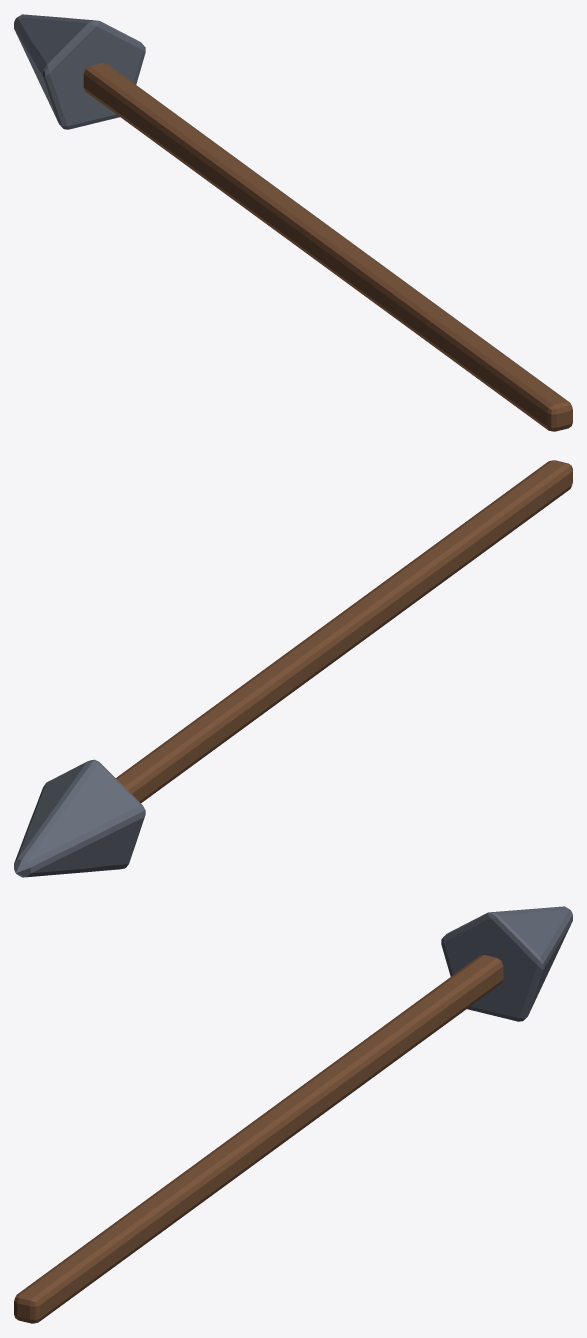
File: bolt.glb
3 renders of one model, top to bottom at view 1: azimuth 30°, elevation 25°; view 2: azimuth 150°, elevation 25°; view 3: azimuth 330°, elevation 25°, orthographic.
Parts seen in each view (by area): view 1: _MeshInstance3D_550, _MeshInstance3D_551; view 2: _MeshInstance3D_550, _MeshInstance3D_551; view 3: _MeshInstance3D_550, _MeshInstance3D_551.
Boxes of the visible parts, bbox=[...] form: _MeshInstance3D_550: bbox=[83, 63, 572, 431]; _MeshInstance3D_551: bbox=[14, 14, 145, 129]; _MeshInstance3D_550: bbox=[116, 460, 572, 802]; _MeshInstance3D_551: bbox=[14, 759, 145, 877]; _MeshInstance3D_550: bbox=[14, 955, 503, 1323]; _MeshInstance3D_551: bbox=[441, 906, 572, 1021].
Bounding box in the file's own units: 0.1595 × 0.1542 × 1.5.
